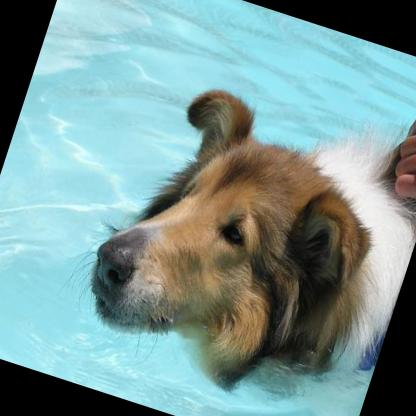collie: (39, 30, 416, 416)
